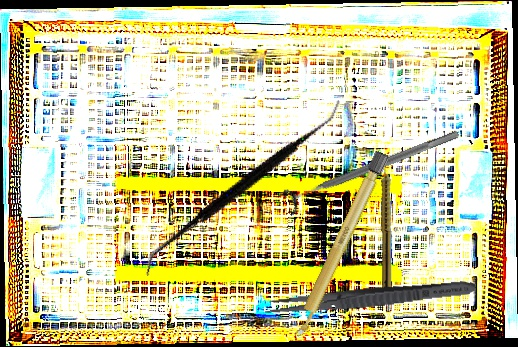Dressing Forceps: (263, 275, 477, 321)
Fixation Ring: (280, 120, 464, 217)
Handpiece: (380, 160, 395, 302)
Scalpel Handle: (288, 148, 391, 342)
Spatula Surgical: (142, 58, 344, 318)
